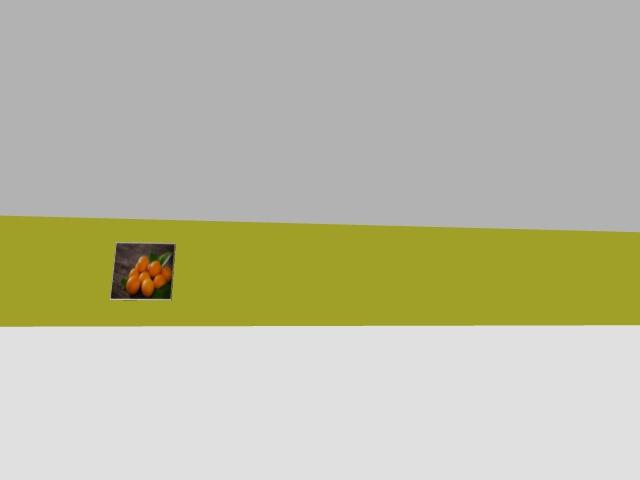orange: (141, 278, 154, 297), (126, 277, 139, 294), (148, 260, 161, 277), (153, 273, 166, 288), (136, 256, 148, 271), (138, 271, 150, 284), (162, 266, 172, 280), (128, 266, 138, 277)
